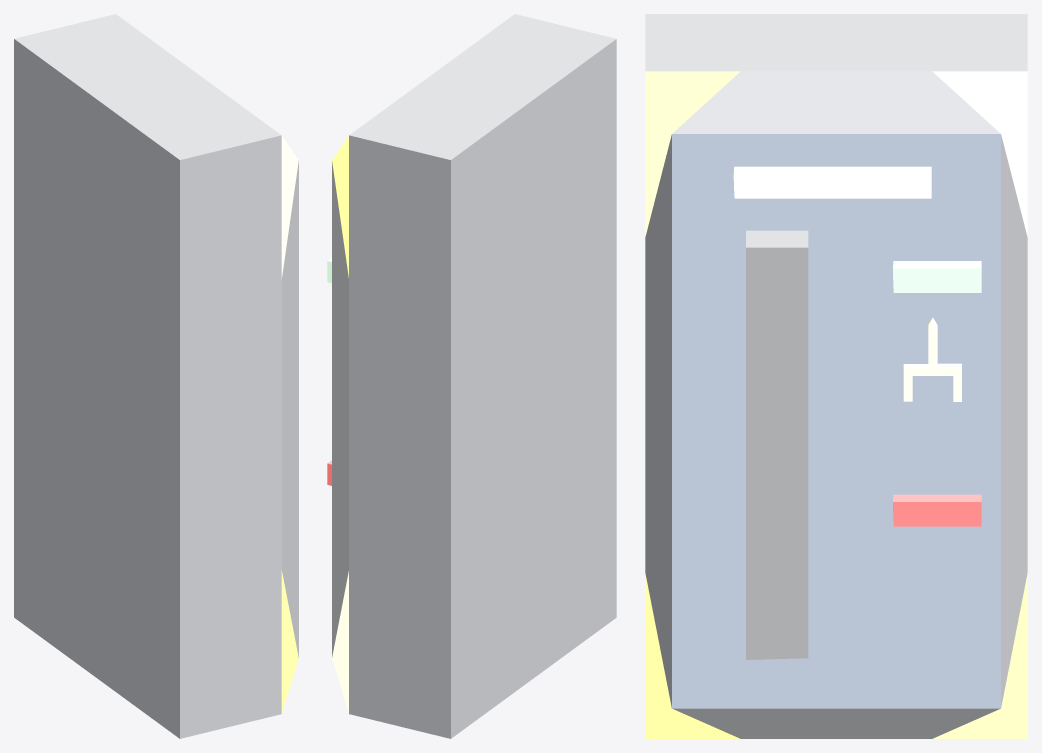
Rendered from electricbox.glb.
3 renders of one model, left to right at view 1: azimuth 30°, elevation 25°; view 2: azimuth 150°, elevation 25°; view 3: azimuth 270°, elevation 25°, orthographic. The views are drawn at different scales.
Parts seen in each view (by area): view 1: Cube; view 2: Cube; view 3: Cube, Cube.001.
Part boxes in pixels (x1,y1,x2,y2): Cube: (14, 14, 298, 738); Cube: (327, 14, 616, 738); Cube: (645, 14, 1027, 738); Cube.001: (903, 317, 961, 401).
Bounding box in the file's own units: 0.4139 × 1.43 × 0.7417.
